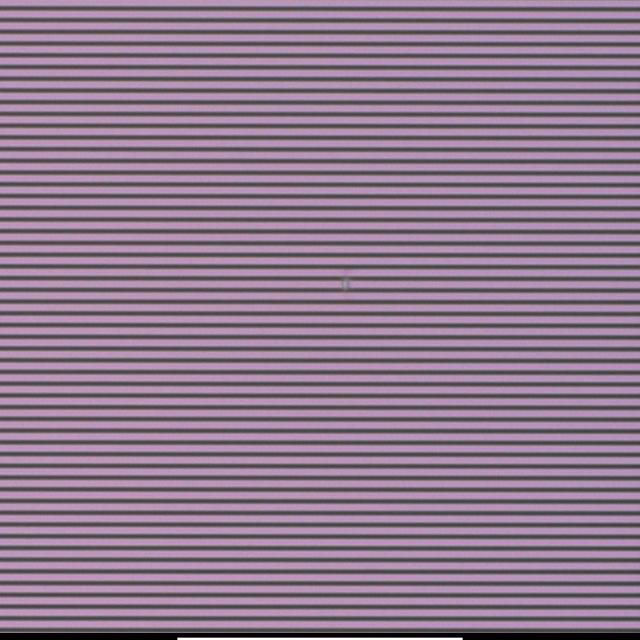nonvisual: (339, 270, 353, 294)
